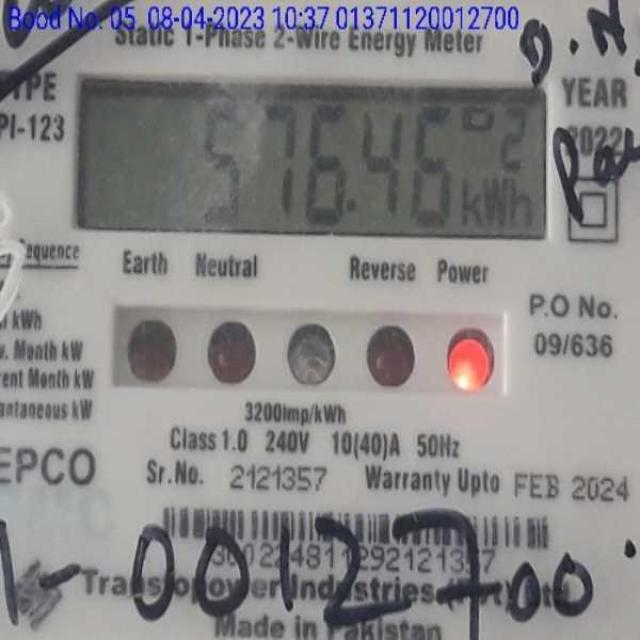4: (353, 95, 406, 228)
5: (189, 93, 254, 227)
6: (405, 96, 459, 239), (303, 90, 350, 227)
7: (255, 93, 302, 229)
Digital meter: (77, 72, 554, 236)
point: (342, 192, 364, 223)
